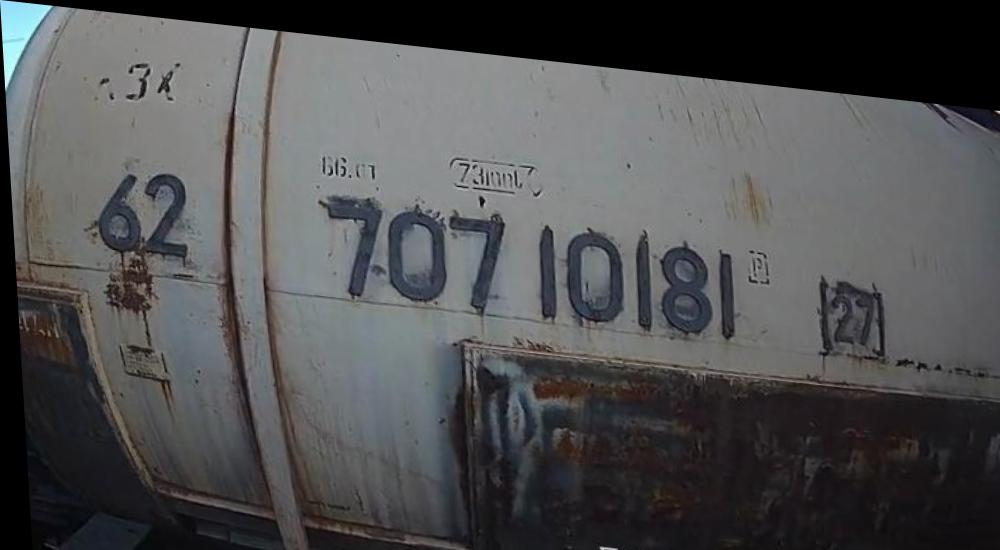Wagon-number: (321, 184, 743, 330)
